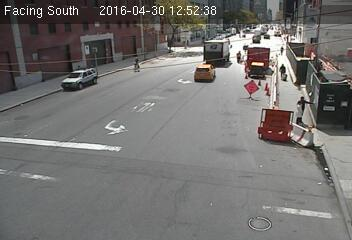neg: (302, 144, 335, 188), (236, 105, 268, 147), (190, 58, 211, 86), (80, 66, 96, 87), (235, 75, 250, 95), (4, 71, 16, 87), (105, 46, 116, 61), (159, 41, 170, 56), (69, 66, 80, 80), (30, 51, 40, 65), (91, 42, 101, 54)
pos: (293, 95, 315, 126), (276, 61, 292, 82), (131, 56, 145, 73), (234, 49, 245, 64), (278, 44, 286, 54)
